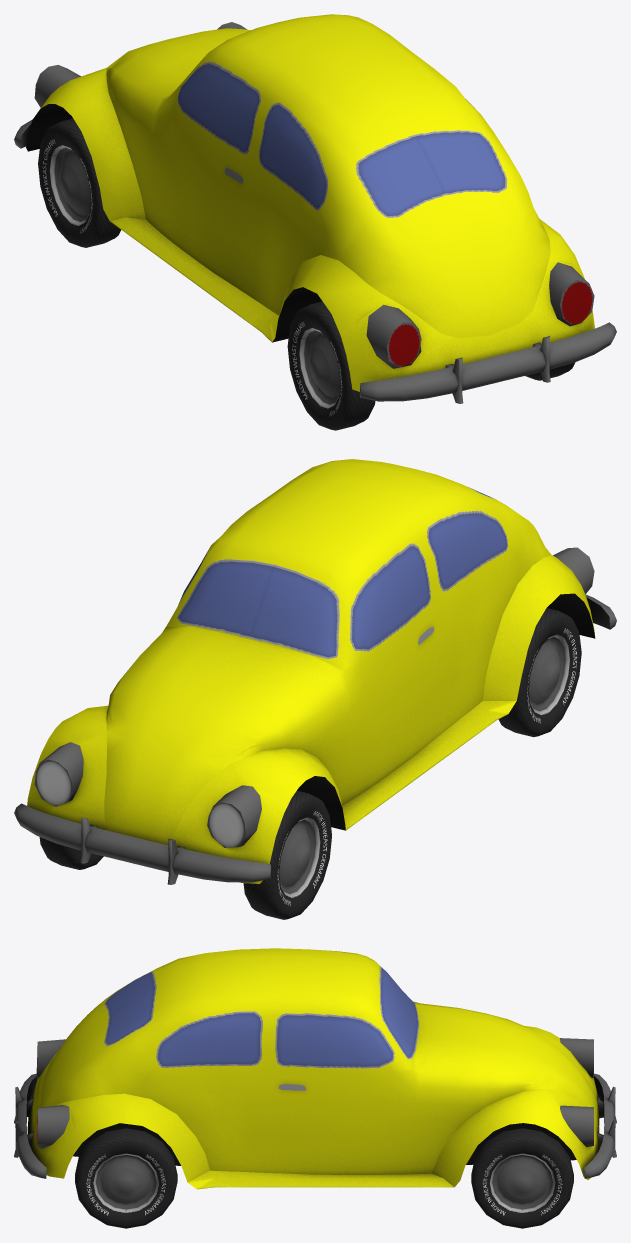
File: KUPLA.obj
3 renders of one model, top to bottom at view 1: azimuth 30°, elevation 25°; view 2: azimuth 150°, elevation 25°; view 3: azimuth 270°, elevation 25°, orthographic. The views are drawn at different scales.
Visible parts, largest first — view 1: kupla_final, wheels_BACK, wheel_FL; view 2: kupla_final, wheel_FL, wheels_BACK, wheel_FR; view 3: kupla_final, wheel_FR, wheels_BACK.
Boxes of the visible parts, left/top/right/bottom form: kupla_final: left=14, top=14, right=616, bottom=403; wheels_BACK: left=287, top=301, right=575, bottom=430; wheel_FL: left=38, top=118, right=120, bottom=247; kupla_final: left=14, top=459, right=616, bottom=884; wheel_FL: left=243, top=790, right=331, bottom=919; wheels_BACK: left=498, top=608, right=581, bottom=737; wheel_FR: left=39, top=837, right=103, bottom=869; kupla_final: left=14, top=948, right=616, bottom=1189; wheel_FR: left=471, top=1128, right=573, bottom=1228; wheels_BACK: left=75, top=1128, right=177, bottom=1228.
Bounding box in the file's own units: 1.66 × 1.74 × 4.29.
